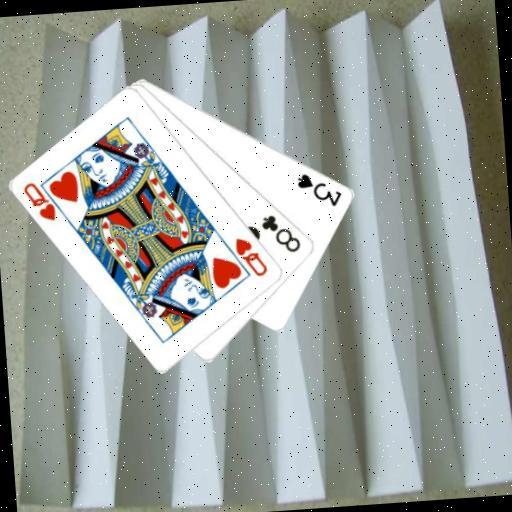3S: (294, 169, 345, 211)
8C: (258, 209, 303, 256)
QH: (20, 177, 70, 225), (232, 233, 271, 281)
